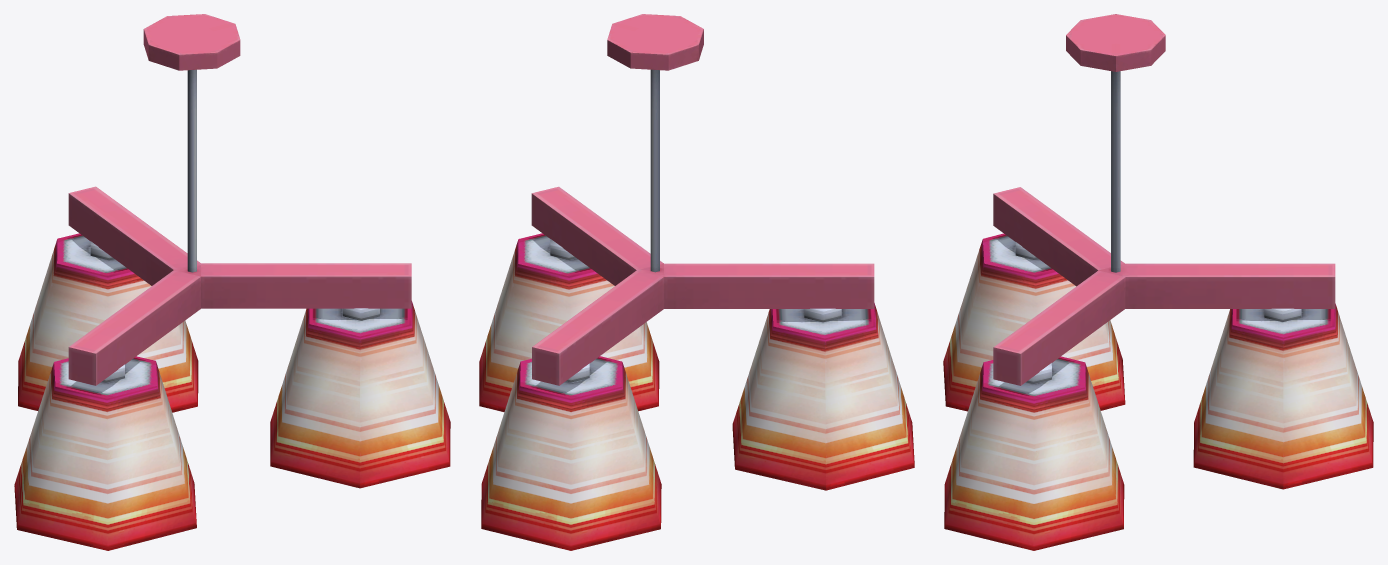
File: furni_0200602.FBX
3 renders of one model, left to right at view 1: azimuth 30°, elevation 25°; view 2: azimuth 150°, elevation 25°; view 3: azimuth 270°, elevation 25°, orthographic.
Parts seen in each view (by area): view 1: furni_0200602; view 2: furni_0200602; view 3: furni_0200602.
Boxes of the visible parts, x1,y1,x2,y2 form: furni_0200602: (14,14,450,550); furni_0200602: (479,14,914,550); furni_0200602: (943,14,1373,550).
Size of the model in its own units: 77.07 by 69.74 by 66.26.
1 material, 1 textured.
